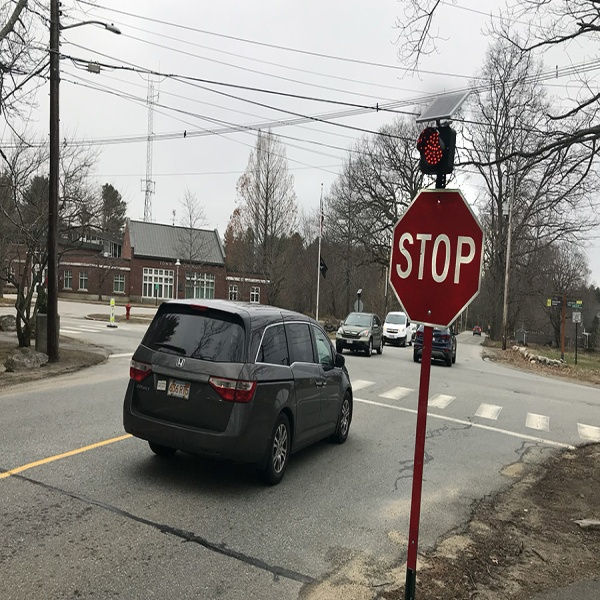stop: (390, 188, 481, 327)
